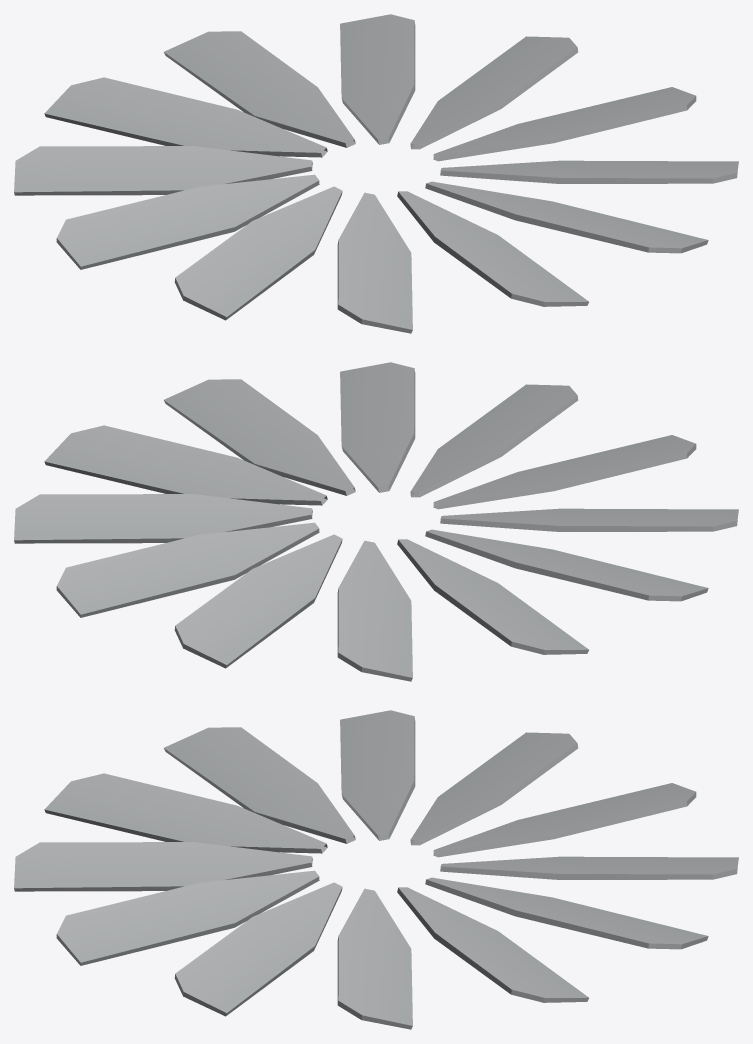
File: Ventilation_015.fbx
The picture shows the model from 3 angles, top to bottom: view 1: azimuth 30°, elevation 25°; view 2: azimuth 150°, elevation 25°; view 3: azimuth 270°, elevation 25°; orthographic projection.
Parts seen in each view (by area): view 1: Ventilation_015; view 2: Ventilation_015; view 3: Ventilation_015.
Boxes of the visible parts, x1,y1,x2,y2 form: Ventilation_015: [14, 14, 738, 333]; Ventilation_015: [14, 362, 738, 681]; Ventilation_015: [14, 710, 738, 1029].
Size of the model in its own units: 73.98 by 73.98 by 2.13.
